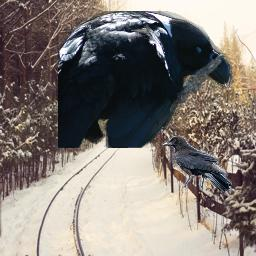Crow: (58, 11, 233, 148), (162, 136, 232, 192)
